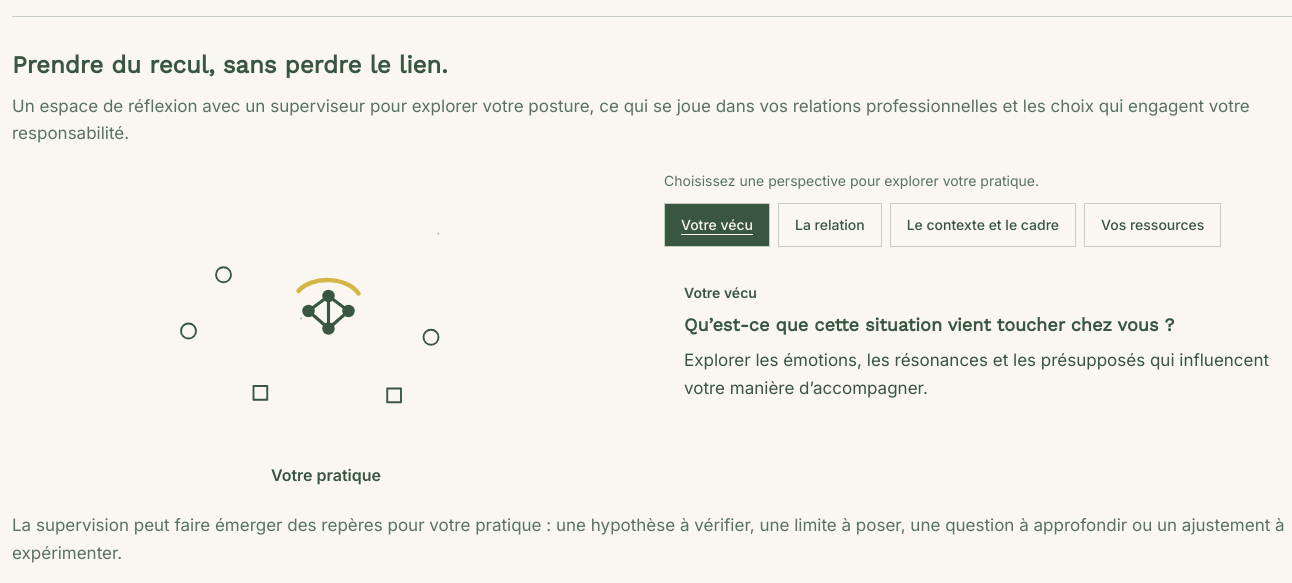
Test: SupervisionIllustration › starts on the first perspective and lets any perspective be chosen directly
This screenshot has width=1292, height=583.
Step 1. Click the button "Le contexte et le cadre" → (983, 225), box [890,203,1076,247]
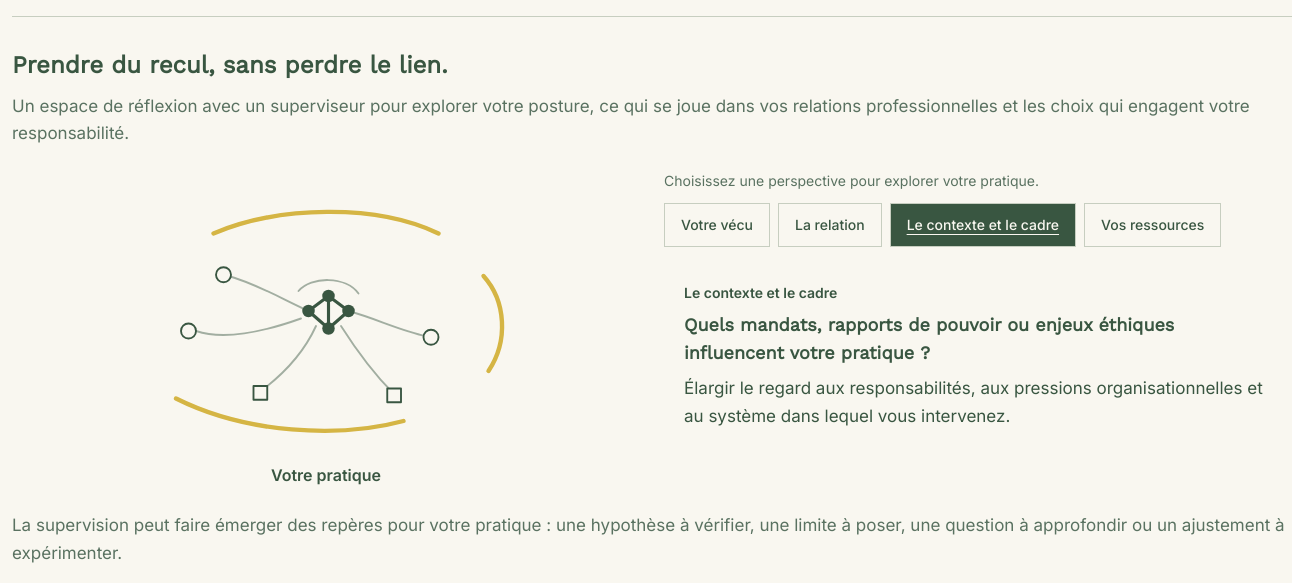
Result: the heading "Quels mandats, rapports de pouvoir ou enjeux éthiques influencent votre pratique ?" is shown at [684,314,1174,363]
